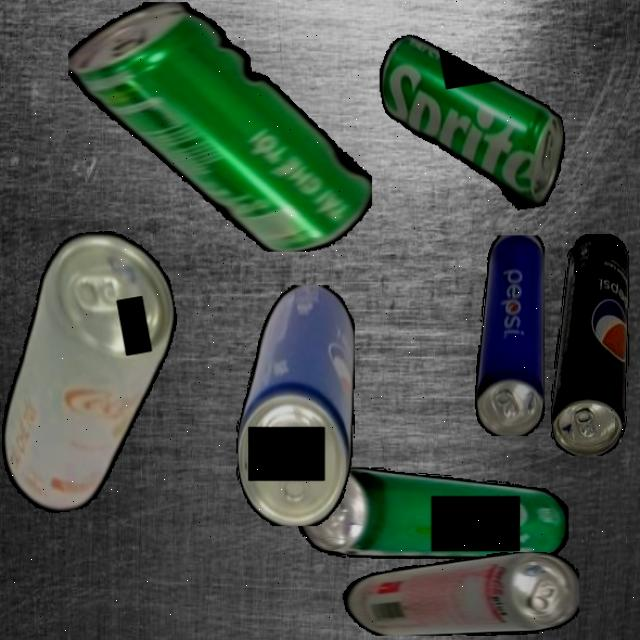debris: (67, 2, 372, 252), (0, 220, 206, 521), (371, 12, 576, 230), (235, 284, 355, 526), (297, 466, 568, 562), (338, 552, 580, 636), (550, 233, 629, 456), (474, 234, 545, 436)
